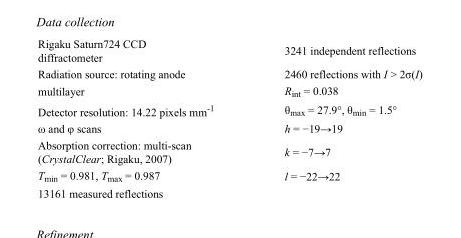table: (37, 36, 421, 199)
table column: (37, 36, 248, 199), (248, 36, 421, 199)
table row: (37, 136, 421, 166), (37, 36, 421, 65), (37, 81, 421, 100), (37, 100, 421, 119), (37, 166, 421, 184), (37, 119, 421, 136), (37, 65, 421, 81), (37, 184, 421, 199)
